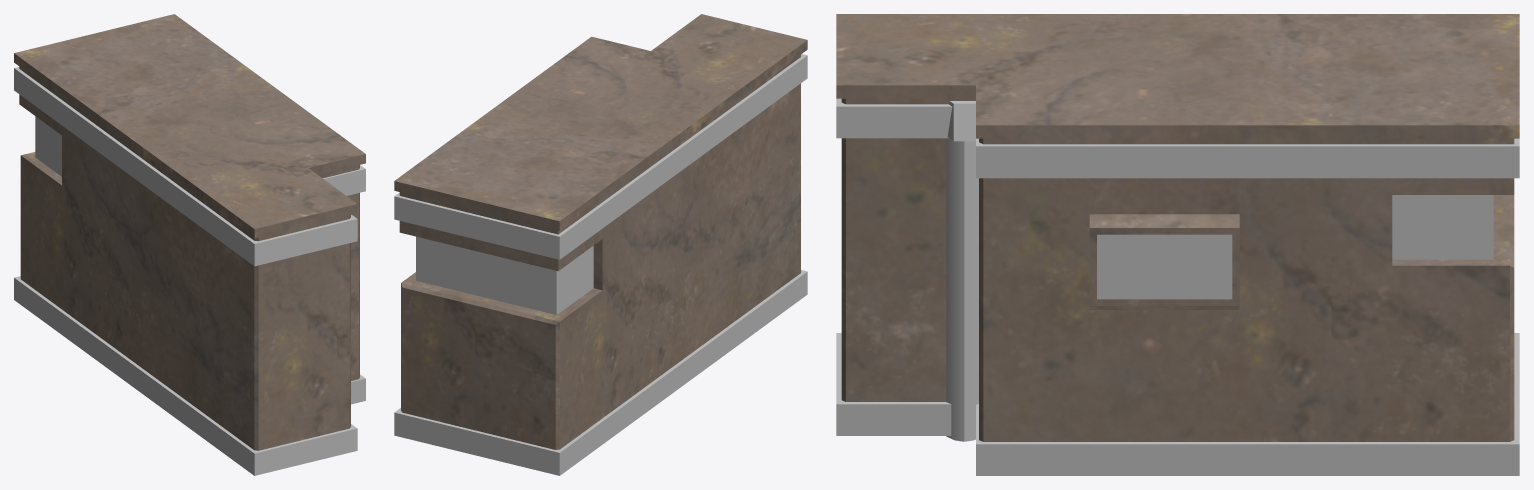
The model's file is ghiway_6a.fbx.
3 renders of one model, left to right at view 1: azimuth 30°, elevation 25°; view 2: azimuth 150°, elevation 25°; view 3: azimuth 270°, elevation 25°, orthographic. The views are drawn at different scales.
Parts seen in each view (by area): view 1: ghiway_6a; view 2: ghiway_6a; view 3: ghiway_6a.
Part boxes in pixels (x1=…): ghiway_6a: x1=14, y1=14, x2=365, y2=475; ghiway_6a: x1=394, y1=14, x2=807, y2=475; ghiway_6a: x1=836, y1=14, x2=1519, y2=475.
Size of the model in its own units: 640 by 881 by 1543.
